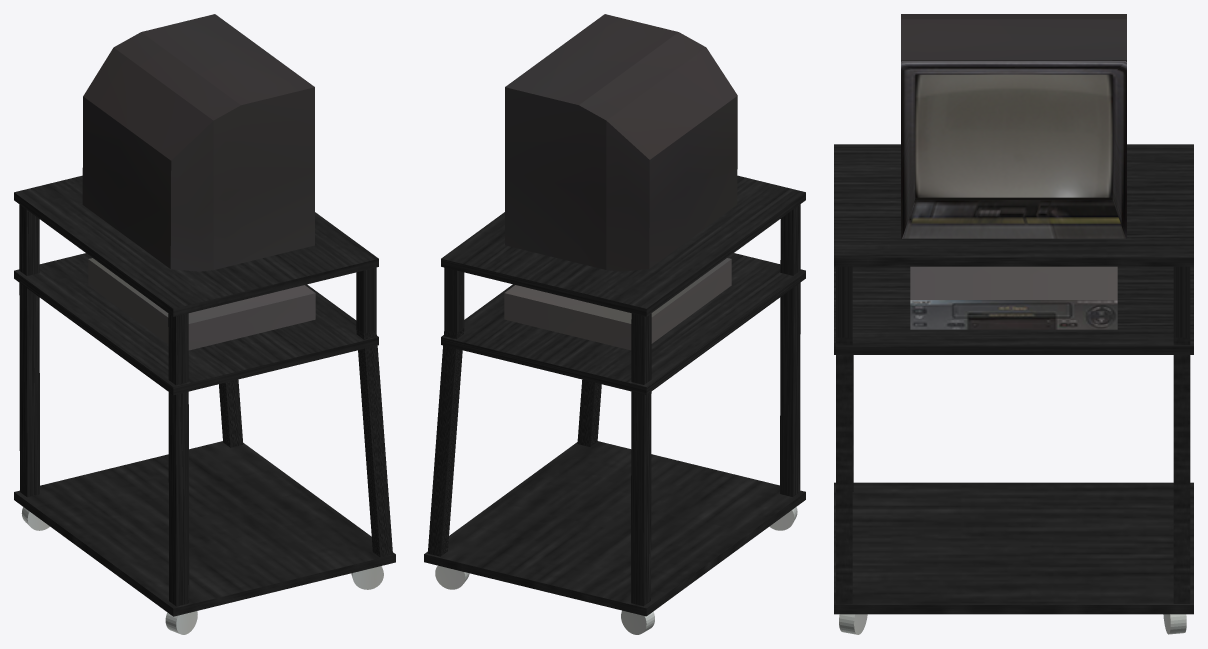
The model's file is classroomTV.fbx.
3 views of the same model, side by side, from view 1: azimuth 30°, elevation 25°; view 2: azimuth 150°, elevation 25°; view 3: azimuth 270°, elevation 25° (orthographic). The views are drawn at different scales.
Parts seen in each view (by area): view 1: Cube.002; view 2: Cube.002; view 3: Cube.002.
Part boxes in pixels (bbox=[...]): Cube.002: bbox=[14, 14, 395, 634]; Cube.002: bbox=[424, 14, 805, 634]; Cube.002: bbox=[834, 14, 1193, 634].
Size of the model in its own units: 316 by 668 by 392.
9 materials, 9 textured.
